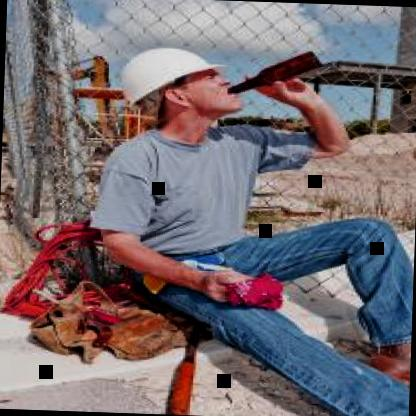helmet: (110, 36, 238, 134)
